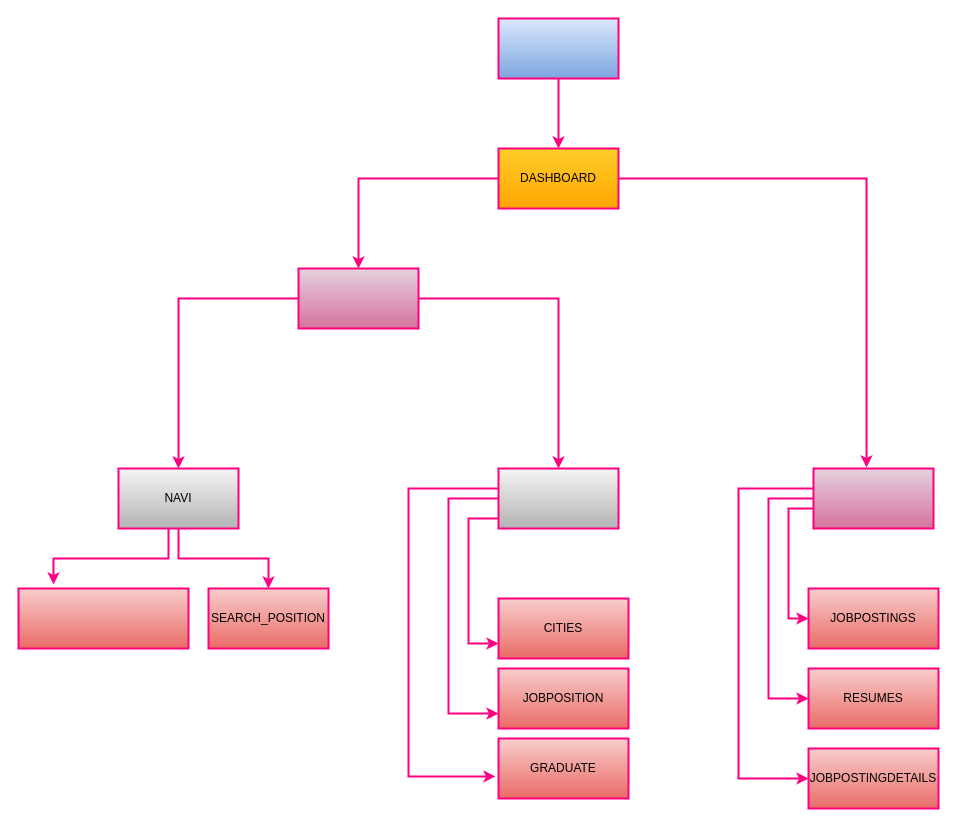
The diagram is 956 pixels wide and 826 high, and some of its shapes have lost their labels. The box of each missing label's shape, as (x1, y1, x2, y2) in pixels:
APP: (497, 17, 619, 79)
CANDIDATE_PROFILE: (17, 587, 189, 649)
CONTENT: (812, 467, 934, 529)
LAYOUTS: (297, 267, 419, 329)
SIDEBAR: (497, 467, 619, 529)
